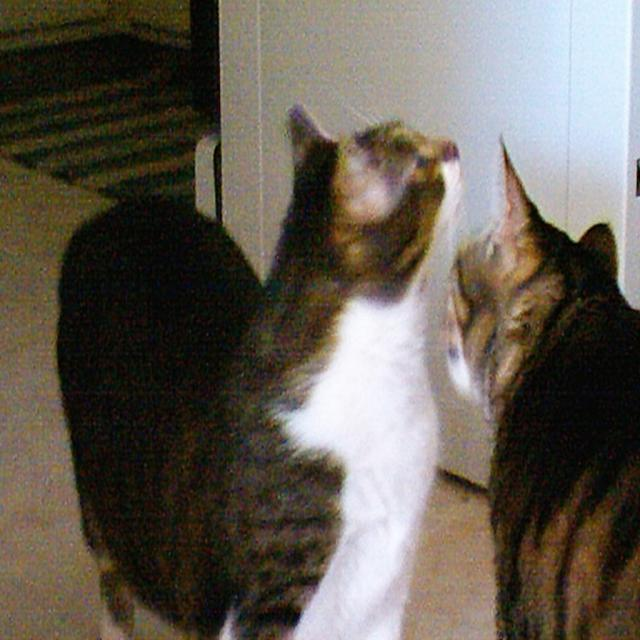Cat: (55, 106, 461, 637), (445, 131, 638, 637)
